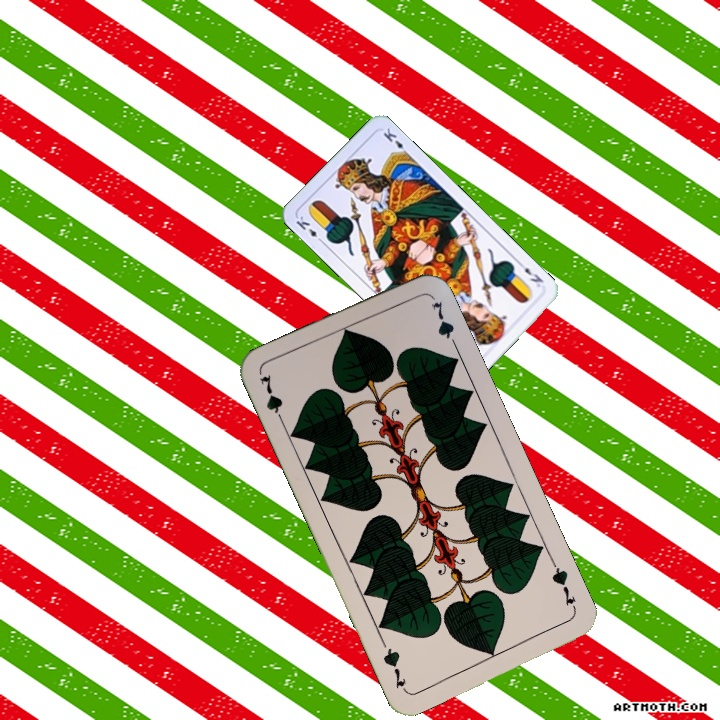EK: (292, 212, 326, 246), (514, 258, 546, 290)
G7: (256, 370, 288, 428), (547, 558, 579, 614)
